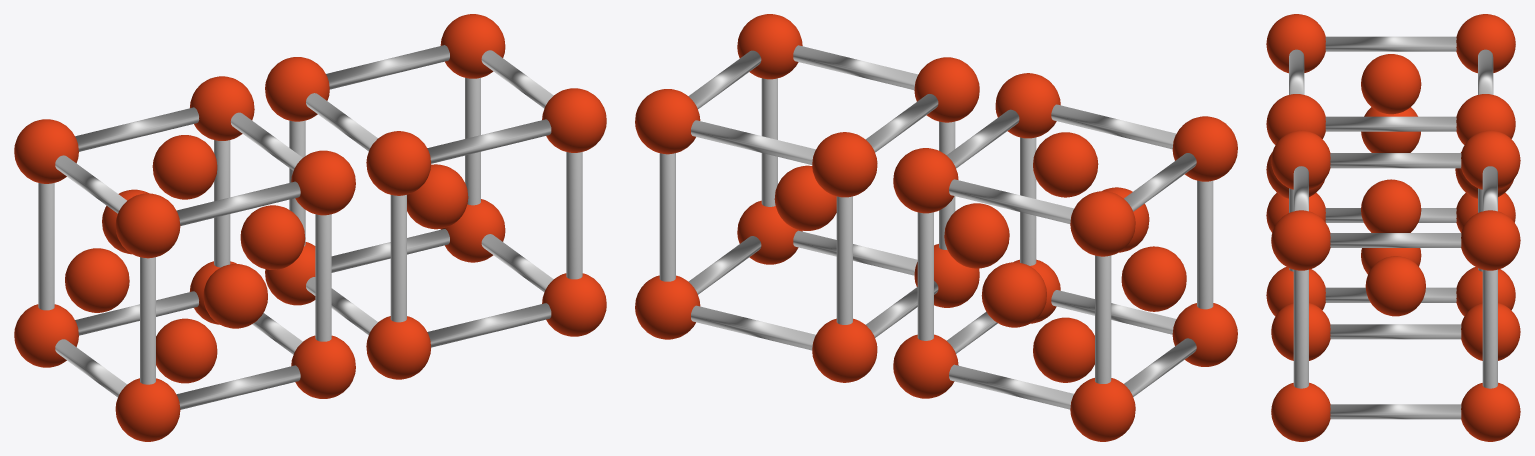
Rendered from hierro4.glb.
3 renders of one model, left to right at view 1: azimuth 30°, elevation 25°; view 2: azimuth 150°, elevation 25°; view 3: azimuth 270°, elevation 25°, orthographic. The views are drawn at different scales.
Visible parts, largest first — view 1: Sphere.018, Cylinder; view 2: Sphere.018, Cylinder; view 3: Sphere.018, Cylinder.
Part boxes in pixels (x1,y1,x2,y2): Sphere.018: (14,14,606,441); Cylinder: (38,45,582,409); Sphere.018: (635,14,1237,441); Cylinder: (659,45,1213,409); Sphere.018: (1266,14,1520,441); Cylinder: (1289,36,1497,419).
Size of the model in its own units: 6.91 by 3.32 by 3.36.
